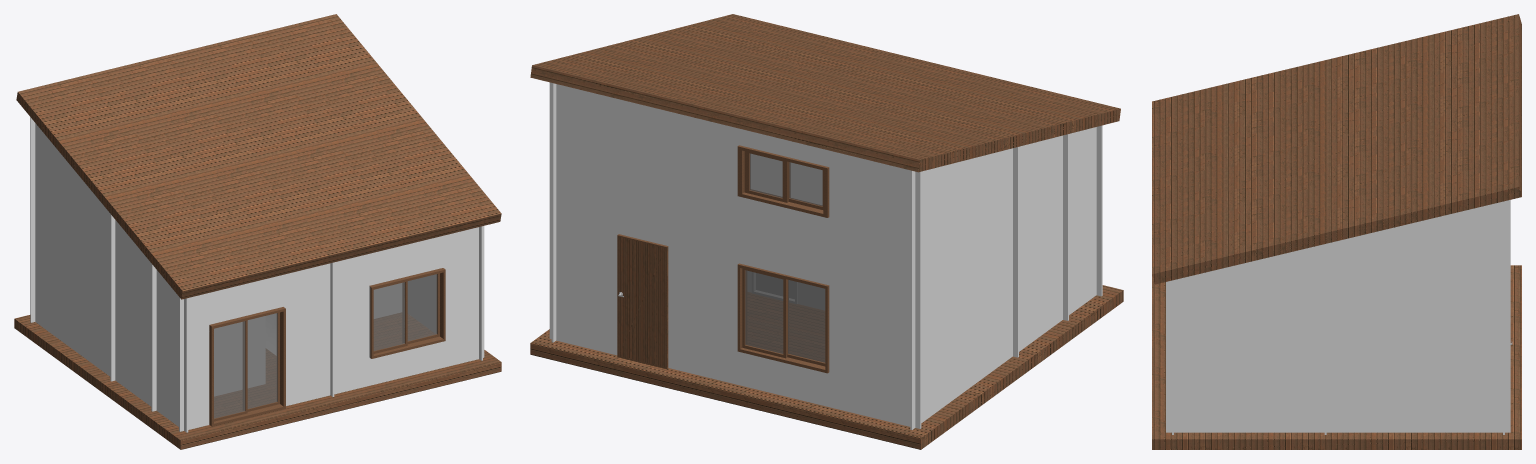
File: 20210830_ADU FINAL REVISE I.dae
3 renders of one model, left to right at view 1: azimuth 30°, elevation 25°; view 2: azimuth 150°, elevation 25°; view 3: azimuth 270°, elevation 25°, orthographic. The views are drawn at different scales.
Visible parts, largest first — view 1: Brep (×8), Mesh (×11); view 2: Brep (×7), Mesh (×12), Instance-Def-900x2100_1_01; view 3: Brep (×6).
Part boxes in pixels (<box>): Brep (×8): <box>14,14,501,449</box>; Mesh (×11): <box>209,268,445,426</box>; Brep (×7): <box>530,14,1123,449</box>; Mesh (×12): <box>617,145,829,373</box>; Instance-Def-900x2100_1_01: <box>752,272,797,303</box>; Brep (×6): <box>1152,14,1521,449</box>.
Bounding box in the file's own units: 8 × 7.19 × 5.64.
